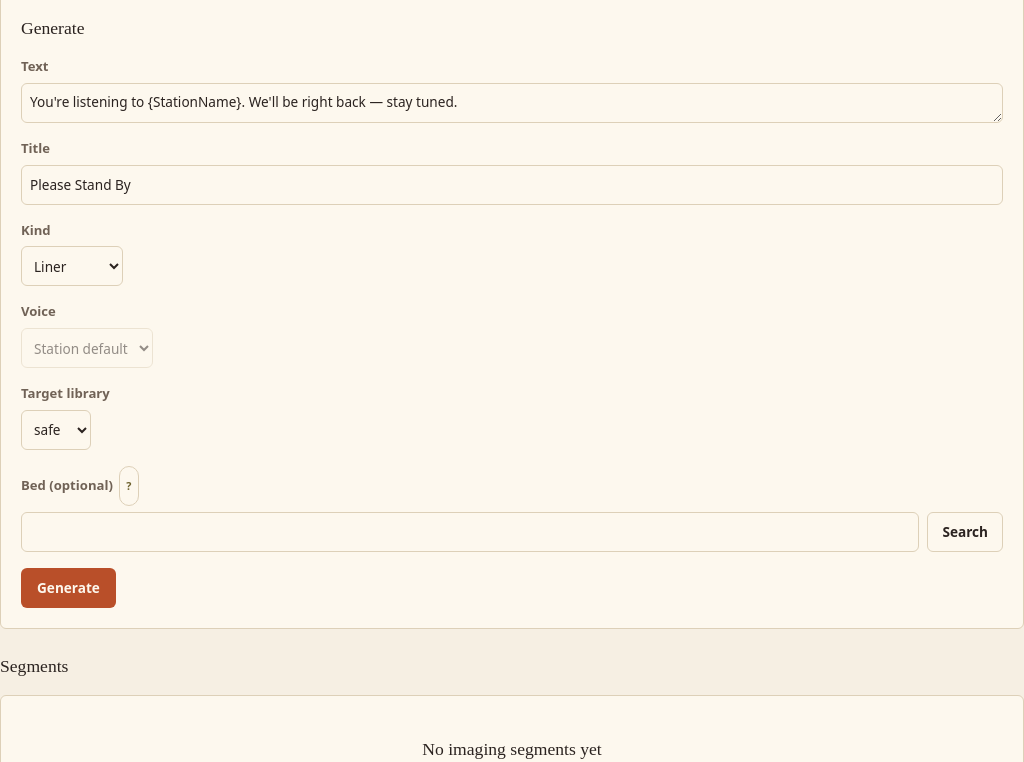
Test: Feature: Station sounds page › Scenario: generate round-trips › POSTs /api/safe-segments with the form values on Generate
This screenshot has width=1024, height=762.
Step 1. Click the button "Generate" → (68, 588), box [21, 568, 116, 608]
(page scrolled)
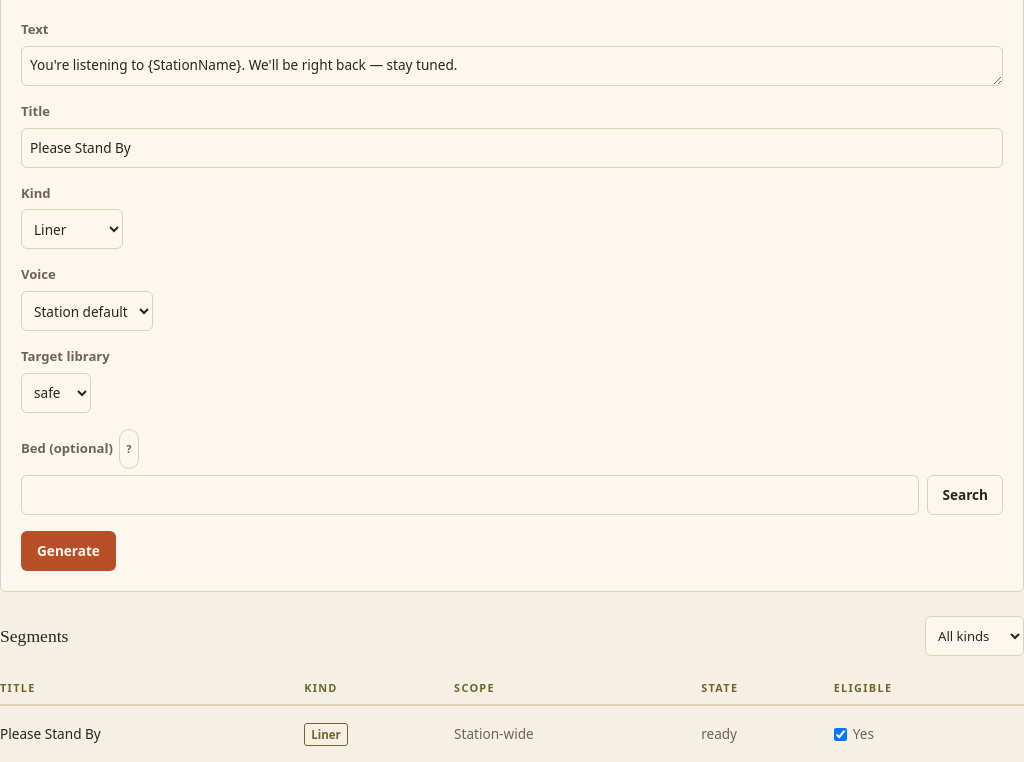
Now the cell "Please Stand By" is shown, box [0, 705, 304, 761]
